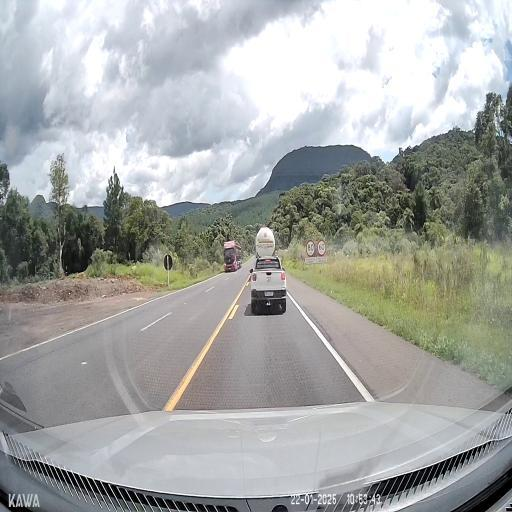R-19: (316, 240, 326, 256), (306, 240, 314, 258)
